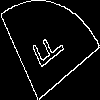F: (24, 25, 65, 77)
